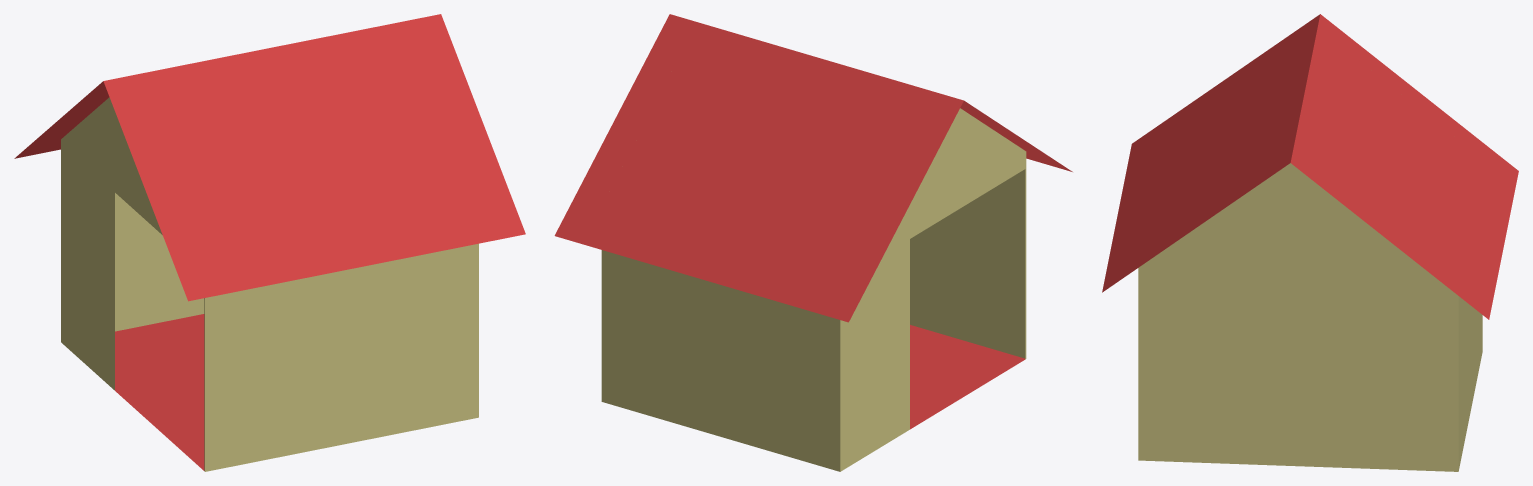
3 renders of one model, left to right at view 1: azimuth 30°, elevation 25°; view 2: azimuth 150°, elevation 25°; view 3: azimuth 270°, elevation 25°, orthographic. The views are drawn at different scales.
Bounding box in the file's own units: 17.26 × 18.67 × 15.67.
